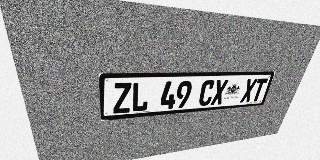4: (160, 81, 178, 110)
9: (175, 81, 193, 108)
C: (198, 80, 216, 106)
L: (131, 82, 149, 112)
T: (250, 78, 268, 102)
X: (210, 80, 229, 105), (240, 79, 258, 103)
Z: (113, 82, 131, 114)
